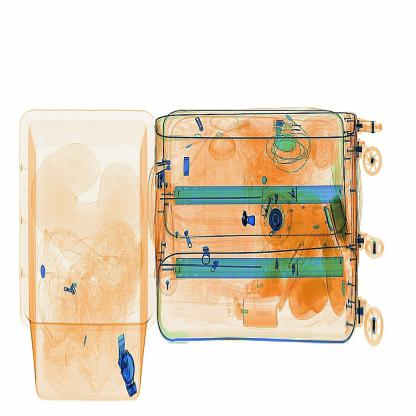wrench: (230, 197, 260, 236)
